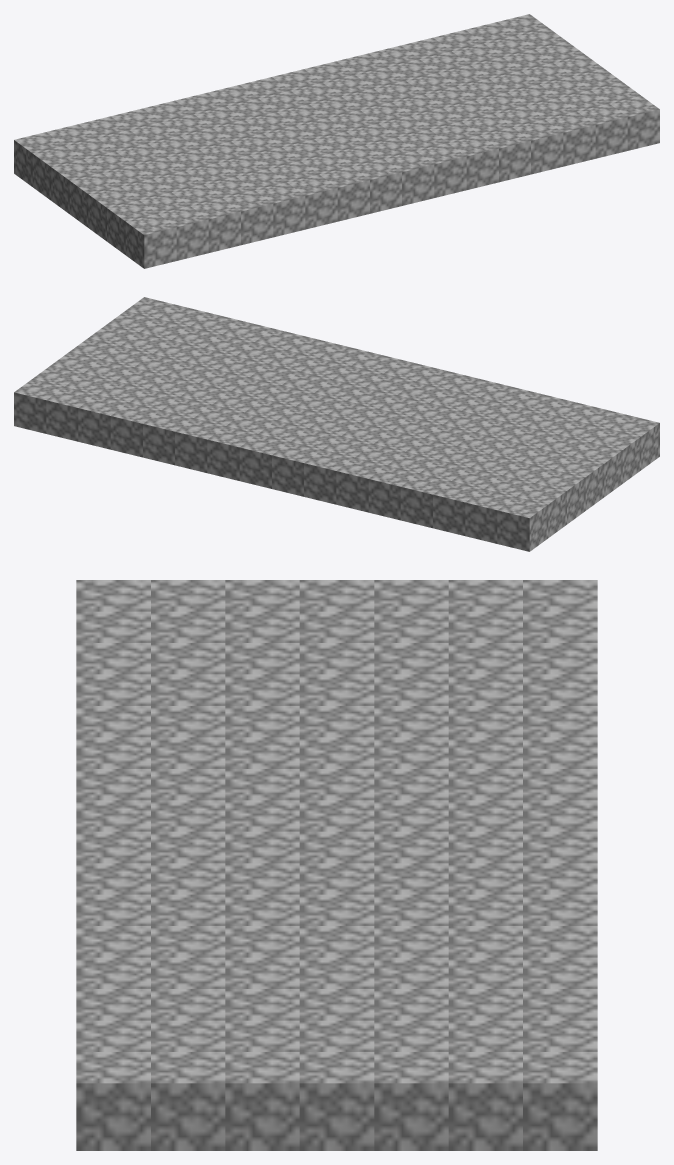
File: cobblestone_platform.fbx
3 views of the same model, one above another, from view 1: azimuth 30°, elevation 25°; view 2: azimuth 150°, elevation 25°; view 3: azimuth 270°, elevation 25° (orthographic). The views are drawn at different scales.
Visible parts, largest first — view 1: Cube.195; view 2: Cube.195; view 3: Cube.195.
Boxes of the visible parts, left/top/right/bottom form: Cube.195: left=14, top=14, right=659, bottom=268; Cube.195: left=14, top=297, right=659, bottom=551; Cube.195: left=76, top=580, right=597, bottom=1150.
Size of the model in its own units: 3200 by 200 by 1400.
